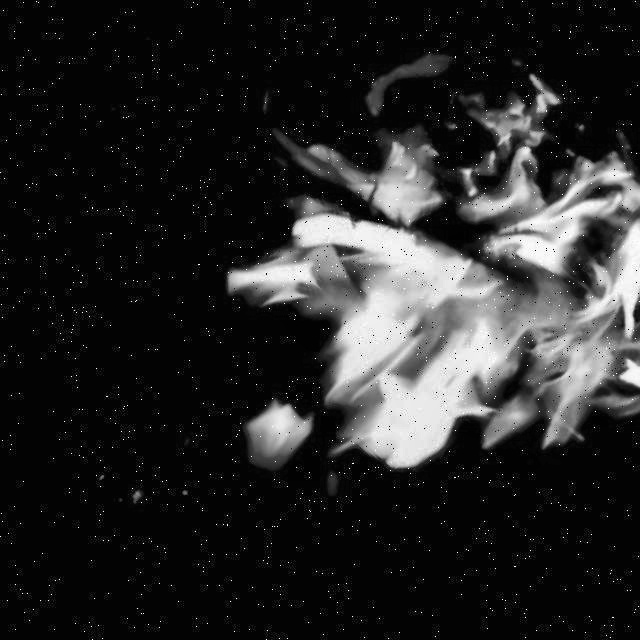Fire: (128, 0, 640, 635)
